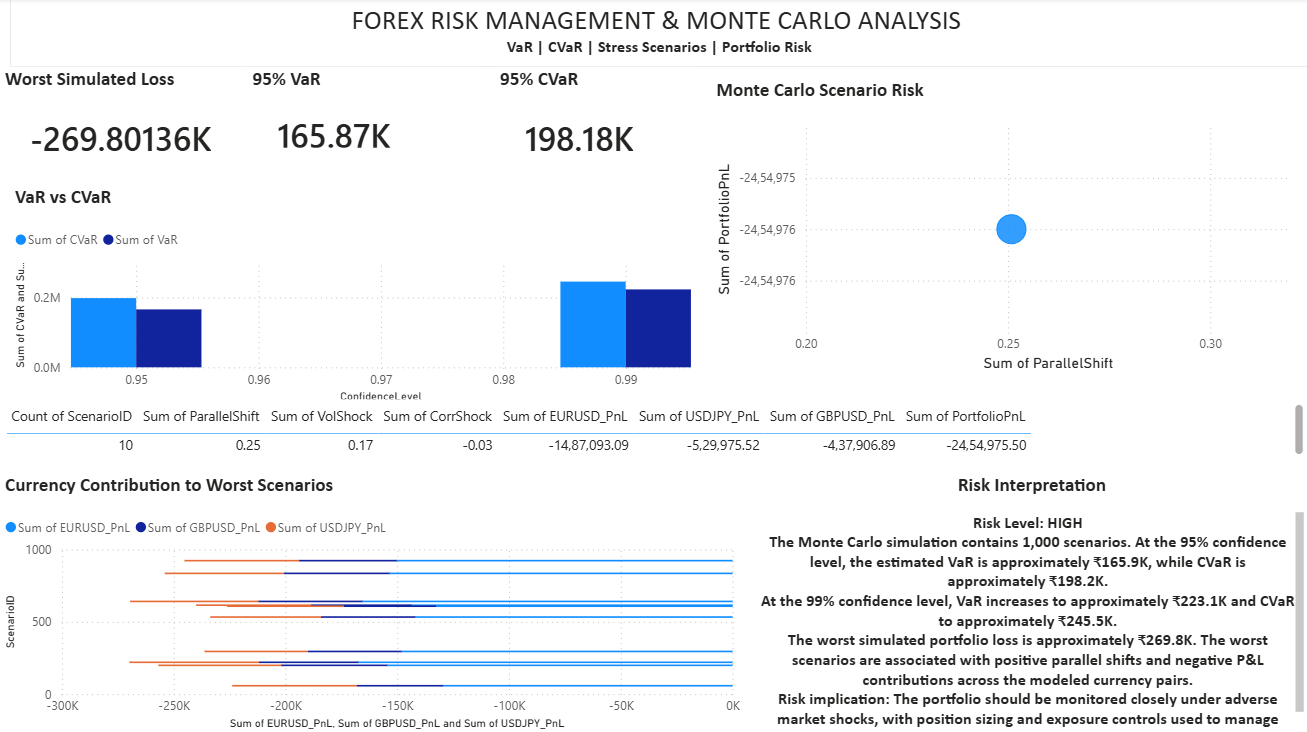

The page's visual inventory and layout, read from the dashboard file:
{"tool":"powerbi","page":{"name":"Risk Management","canvas":[1280,720],"ordinal":3},"visuals":[{"type":"textbox","box":[9.8,0,1270.5,67.3],"z":0},{"type":"clusteredColumnChart","title":"VaR vs CVaR","fields":{"Category":["var_cvar_results.ConfidenceLevel"],"Y":["Sum(var_cvar_results.CVaR)","Sum(var_cvar_results.VaR)"]},"box":[9.8,183.4,671.3,217.7],"z":1000},{"type":"scatterChart","title":"Monte Carlo Scenario Risk","fields":{"Size":["Sum(worst_monte_carlo_scenarios.VolShock)"],"X":["Sum(worst_monte_carlo_scenarios.ParallelShift)"],"Y":["Sum(worst_monte_carlo_scenarios.PortfolioPnL)"]},"box":[695.8,78.3,584.5,292.3],"z":2000},{"type":"tableEx","fields":{"Values":["CountNonNull(worst_monte_carlo_scenarios.ScenarioID)","Sum(worst_monte_carlo_scenarios.ParallelShift)","Sum(worst_monte_carlo_scenarios.VolShock)","Sum(worst_monte_carlo_scenarios.CorrShock)","Sum(worst_monte_carlo_scenarios.EURUSD_PnL)","Sum(worst_monte_carlo_scenarios.USDJPY_PnL)","Sum(worst_monte_carlo_scenarios.GBPUSD_PnL)","Sum(worst_monte_carlo_scenarios.PortfolioPnL)"]},"box":[0,392.5,1280.3,58.7],"z":3000},{"type":"barChart","title":"Currency Contribution to Worst Scenarios","fields":{"Category":["worst_monte_carlo_scenarios.ScenarioID"],"Y":["Sum(worst_monte_carlo_scenarios.EURUSD_PnL)","Sum(worst_monte_carlo_scenarios.GBPUSD_PnL)","Sum(worst_monte_carlo_scenarios.USDJPY_PnL)"]},"box":[0,464.7,728.8,255.6],"z":4000},{"type":"cardVisual","title":"Worst Simulated Loss","fields":{"Data":["Sum(worst_monte_carlo_scenarios.PortfolioPnL)"]},"box":[0,67.3,242.1,103.9],"z":5000},{"type":"cardVisual","title":"95% VaR","fields":{"Data":["Sum(var_cvar_results.VaR)"]},"box":[242.1,67.3,226.2,96.6],"z":6000},{"type":"cardVisual","title":"95% CVaR","fields":{"Data":["Sum(var_cvar_results.CVaR)"]},"box":[484.2,67.3,196.9,103.9],"z":7000},{"type":"textbox","title":"Risk Interpretation","box":[738.6,464.7,541.7,255.6],"z":8000}]}

Visuals, with their boxes in screenshot pixels (x1, y1, x2, y2), scaled from the page's 1280x720 canvas onto the 1307x732 screenshot:
textbox: bbox=(10, 0, 1306, 68)
"VaR vs CVaR" clusteredColumnChart: bbox=(10, 186, 695, 408)
"Monte Carlo Scenario Risk" scatterChart: bbox=(710, 80, 1306, 377)
tableEx - CountNonNull(worst_monte_carlo_scenarios.ScenarioID) x Sum(worst_monte_carlo_scenarios.ParallelShift): bbox=(0, 399, 1306, 459)
"Currency Contribution to Worst Scenarios" barChart: bbox=(0, 472, 744, 731)
"Worst Simulated Loss" cardVisual: bbox=(0, 68, 247, 174)
"95% VaR" cardVisual: bbox=(247, 68, 478, 167)
"95% CVaR" cardVisual: bbox=(494, 68, 695, 174)
"Risk Interpretation" textbox: bbox=(754, 472, 1306, 731)
